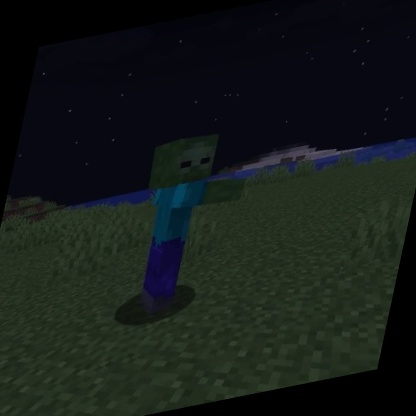zombie: (111, 121, 263, 324)
